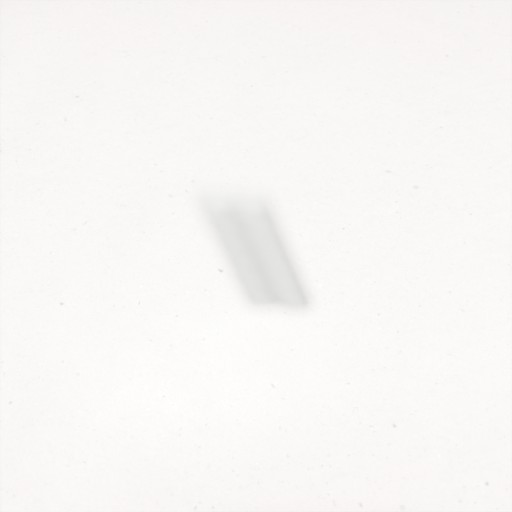lego: (193, 187, 315, 315)
